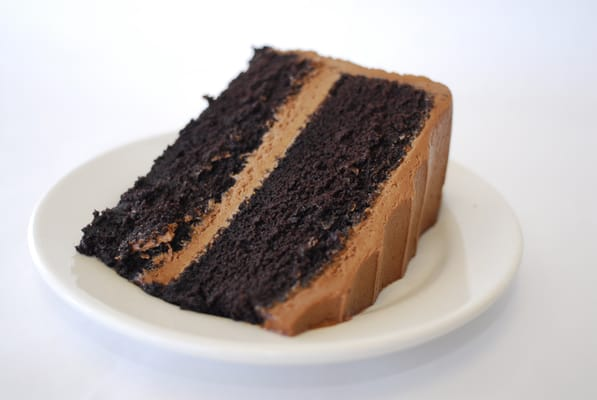sushi: (77, 44, 454, 337)
